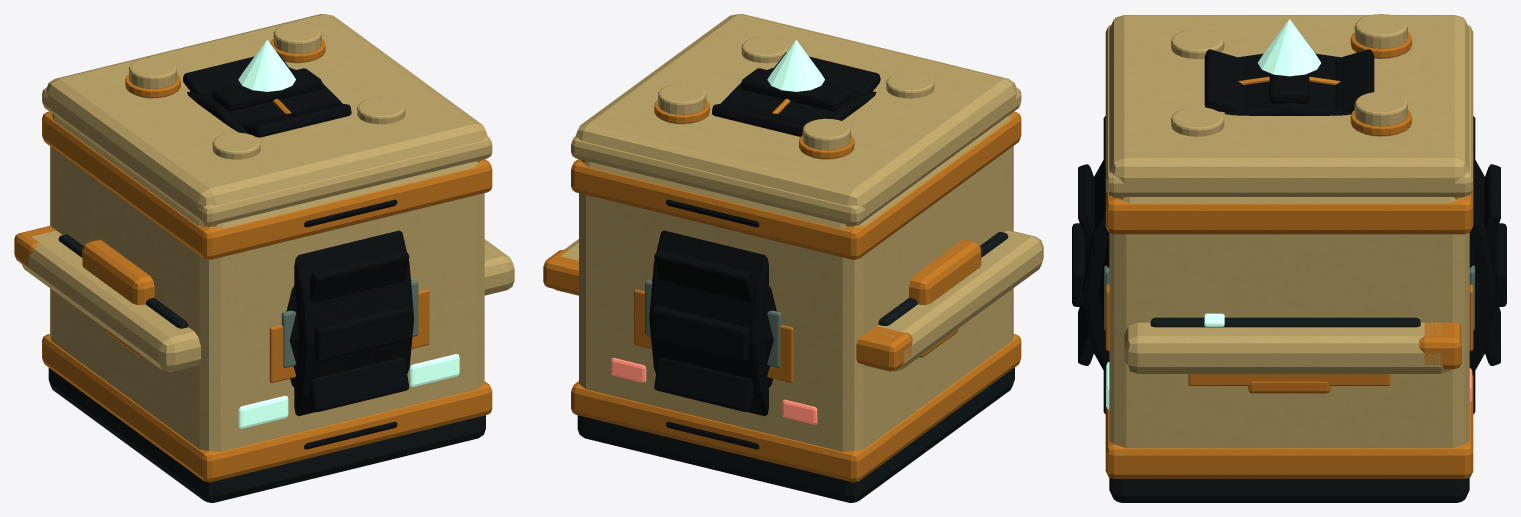
File: machine-kit.glb
3 renders of one model, left to right at view 1: azimuth 30°, elevation 25°; view 2: azimuth 150°, elevation 25°; view 3: azimuth 270°, elevation 25°, orthographic. The views are drawn at different scales.
Parts seen in each view (by area): view 1: frame/body|Warm enamel, cockpit/body|Warm enamel, wheel/body|Tire rubber, ballast/body|Honey yellow, ballast/body|Warm enamel, wing/body|Warm enamel, cockpit/body|Soft graphite, cockpit/studs|Warm enamel, wheel/wheel-fixed|Honey yellow, frame/studs|Warm enamel, cockpit/body|Mint indicator, thruster/body|Mint indicator (+5 smaller); view 2: frame/body|Warm enamel, cockpit/body|Warm enamel, ballast/body|Warm enamel, wheel/body|Tire rubber, ballast/body|Honey yellow, cockpit/body|Soft graphite, wing/body|Warm enamel, wing/body|Honey yellow, cockpit/studs|Warm enamel, wheel/wheel-fixed|Honey yellow, frame/studs|Warm enamel, thruster/body|Mint indicator (+5 smaller); view 3: frame/body|Warm enamel, cockpit/body|Warm enamel, ballast/body|Warm enamel, ballast/body|Honey yellow, wheel/body|Tire rubber, wing/body|Warm enamel, cockpit/body|Soft graphite, cockpit/studs|Warm enamel, frame/body|Honey yellow, wing/body|Soft graphite, frame/studs|Warm enamel, thruster/body|Mint indicator (+3 smaller).
Part boxes in pixels (x1,y1,x2,y2): frame/body|Warm enamel: (42,87,492,451); cockpit/body|Warm enamel: (46,14,487,211); wheel/body|Tire rubber: (183,52,413,449); ballast/body|Honey yellow: (42,111,492,482); ballast/body|Warm enamel: (52,114,477,450); wing/body|Warm enamel: (21,230,514,371); cockpit/body|Soft graphite: (48,368,485,502); cockpit/studs|Warm enamel: (129,22,321,88); wheel/wheel-fixed|Honey yellow: (82,239,154,304); frame/studs|Warm enamel: (136,59,405,159); cockpit/body|Mint indicator: (238,354,459,428); thruster/body|Mint indicator: (238,40,295,91); frame/body|Warm enamel: (571,87,1021,451); cockpit/body|Warm enamel: (575,14,1016,212); ballast/body|Warm enamel: (585,114,1010,450); wheel/body|Tire rubber: (649,52,880,449); ballast/body|Honey yellow: (571,111,1021,482); cockpit/body|Soft graphite: (577,367,1014,502); wing/body|Warm enamel: (555,230,1043,371); wing/body|Honey yellow: (543,249,912,370); cockpit/studs|Warm enamel: (658,83,850,150); wheel/wheel-fixed|Honey yellow: (909,239,981,304); frame/studs|Warm enamel: (664,36,934,159); thruster/body|Mint indicator: (767,40,824,91); frame/body|Warm enamel: (1105,25,1473,448); cockpit/body|Warm enamel: (1109,15,1469,188); ballast/body|Warm enamel: (1123,197,1455,448); ballast/body|Honey yellow: (1105,189,1473,478); wheel/body|Tire rubber: (1072,49,1506,414); wing/body|Warm enamel: (1124,322,1450,373); cockpit/body|Soft graphite: (1109,477,1469,502); cockpit/studs|Warm enamel: (1354,14,1407,126); frame/body|Honey yellow: (1105,284,1473,385); wing/body|Soft graphite: (1150,317,1420,327); frame/studs|Warm enamel: (1171,29,1398,136); thruster/body|Mint indicator: (1258,19,1320,76).
Bounding box in the file's own units: 1.2 × 1.34 × 1.16.
Materials: 8 (5 with a texture image).
